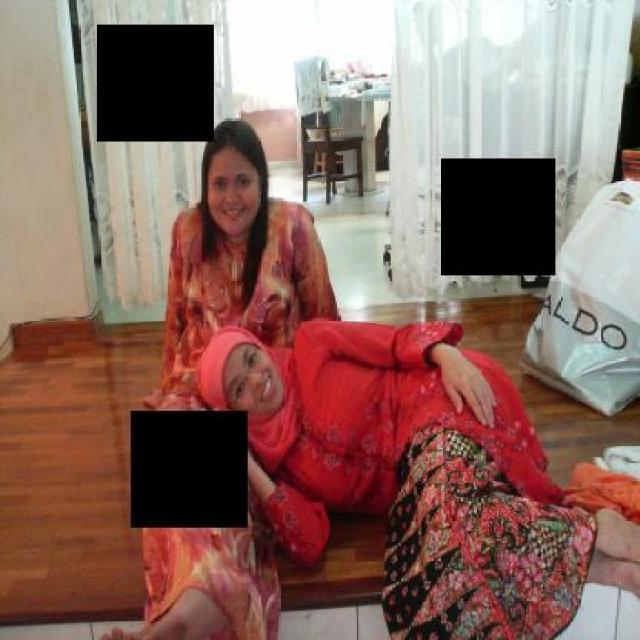plastic bag: (514, 177, 638, 417)
